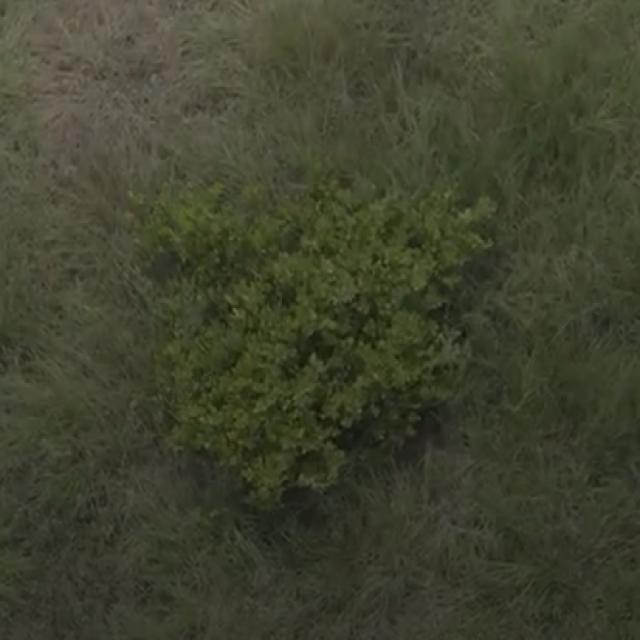notMangoTree: (121, 169, 503, 515)
